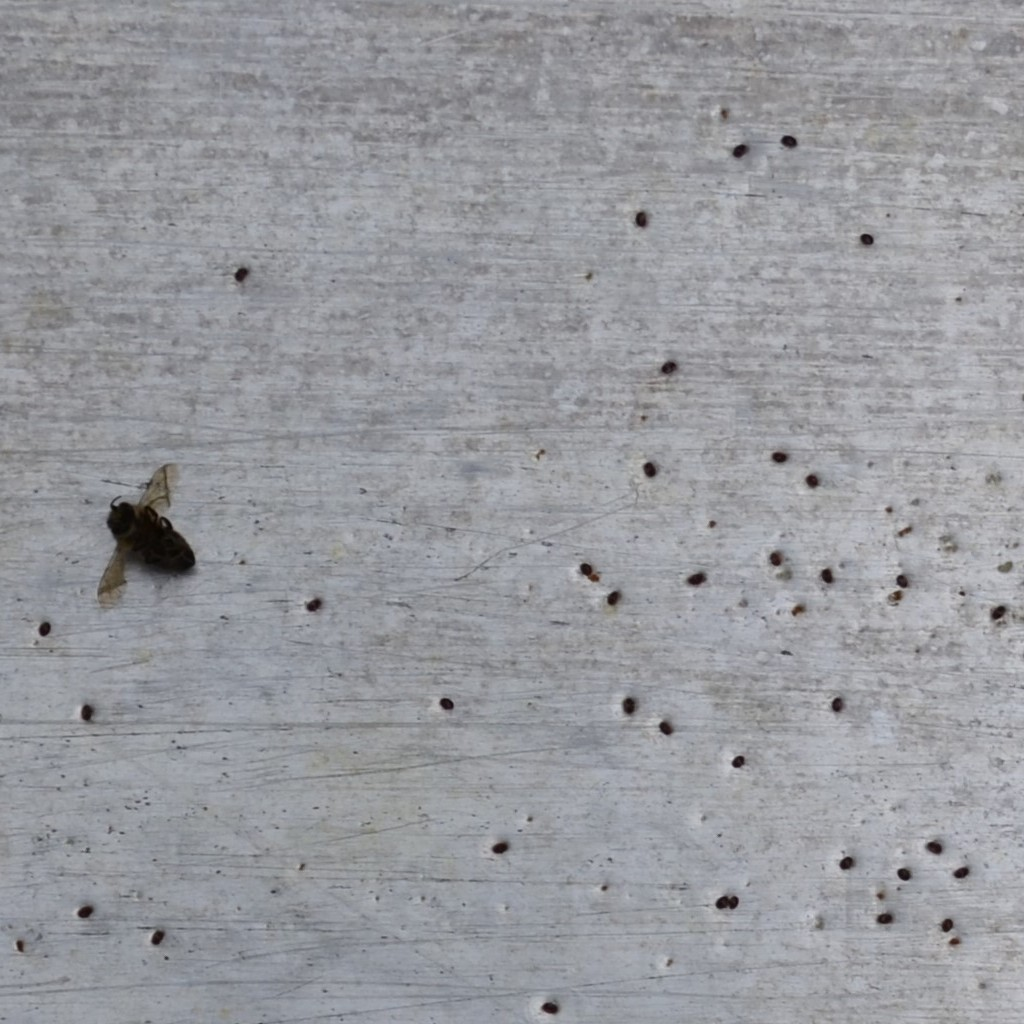varroa: (231, 259, 250, 287), (729, 141, 750, 164), (490, 839, 513, 859), (829, 689, 846, 716), (938, 912, 954, 937), (439, 691, 455, 716), (924, 838, 945, 857), (538, 997, 560, 1015), (989, 602, 1008, 622), (712, 890, 730, 911), (579, 556, 593, 583), (76, 902, 94, 923), (767, 543, 782, 568), (778, 132, 798, 150), (953, 862, 971, 882), (686, 570, 707, 587), (660, 358, 677, 379), (642, 458, 658, 480), (770, 448, 788, 467), (633, 207, 650, 227), (875, 909, 895, 926), (149, 927, 166, 947), (894, 570, 910, 591), (78, 702, 94, 723), (730, 751, 746, 771), (621, 696, 636, 717), (804, 469, 818, 491), (36, 620, 53, 638), (819, 565, 835, 584), (858, 229, 875, 246), (605, 589, 622, 606), (658, 718, 672, 737), (728, 892, 741, 912), (895, 865, 911, 881), (838, 855, 853, 872)
